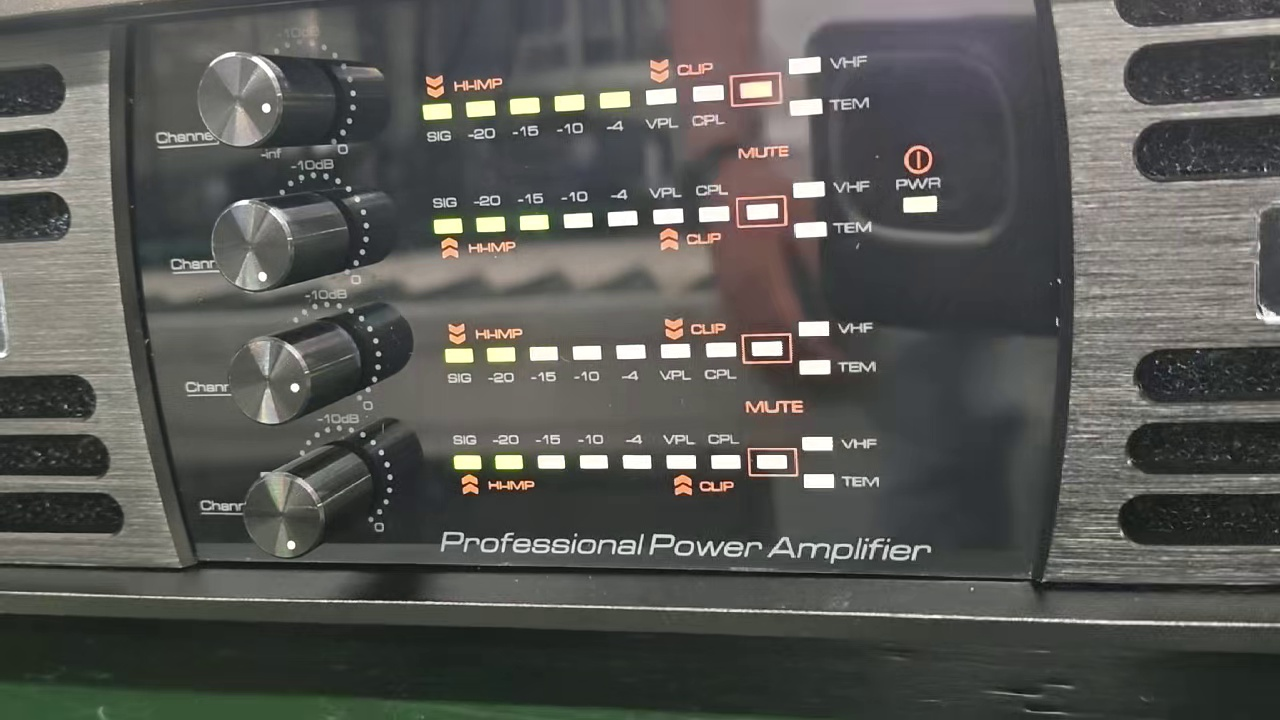FP_CPL: (689, 81, 729, 142), (698, 337, 740, 387), (703, 427, 745, 475), (695, 179, 735, 227)
FP_PWR: (892, 174, 945, 215)
FP_PWR_area: (887, 142, 948, 223)
FP_SIG_area: (410, 46, 871, 141), (425, 172, 873, 260), (449, 426, 884, 506), (444, 316, 880, 387)
FP_VPL: (642, 84, 685, 138), (657, 339, 698, 388), (660, 427, 701, 474), (647, 180, 687, 226)
